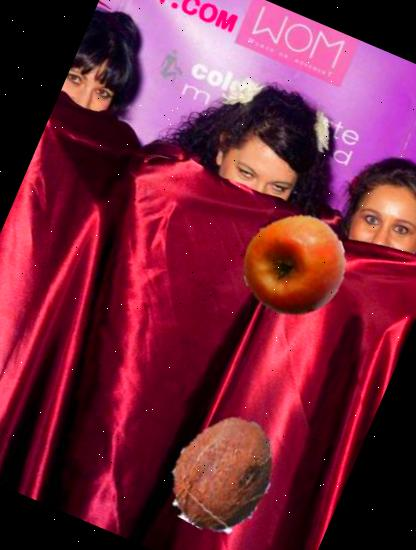Apple: (226, 198, 364, 336)
Cocos: (143, 394, 302, 550)
